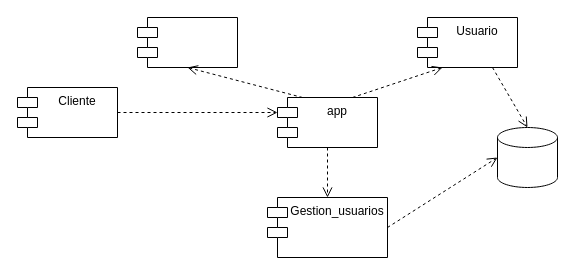
Image size: 575x275. Some labels were removed from this diagram. Here are the shapes that lost their labels. From the top down, the centre of each, then its label:
(187,42): Prediccion
(527,157): Base de datos
